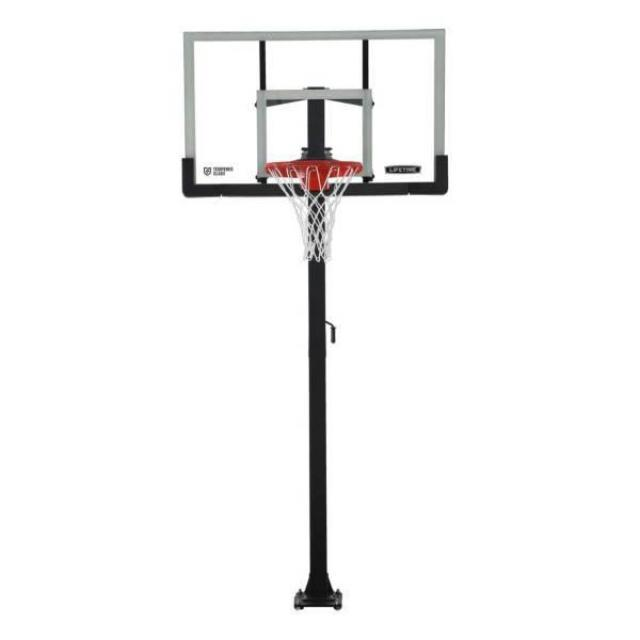hoop: (264, 159, 362, 263)
